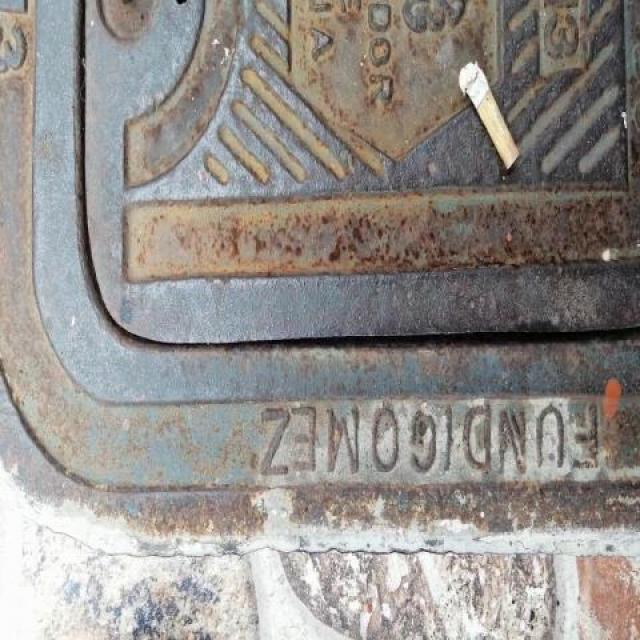non-organic waste: (454, 58, 522, 173)
